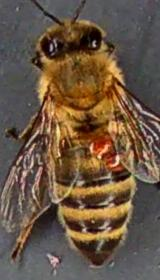varroa_mite: (90, 128, 118, 158), (105, 152, 128, 172)
